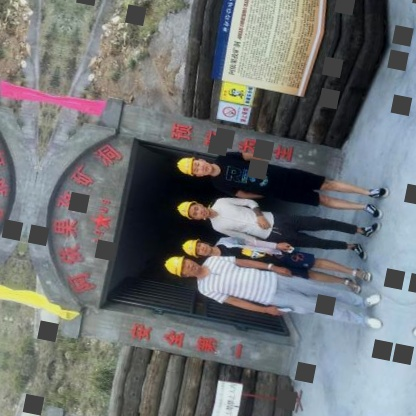yellow: (157, 247, 193, 282), (170, 151, 202, 183), (171, 193, 202, 225), (175, 230, 205, 262)
